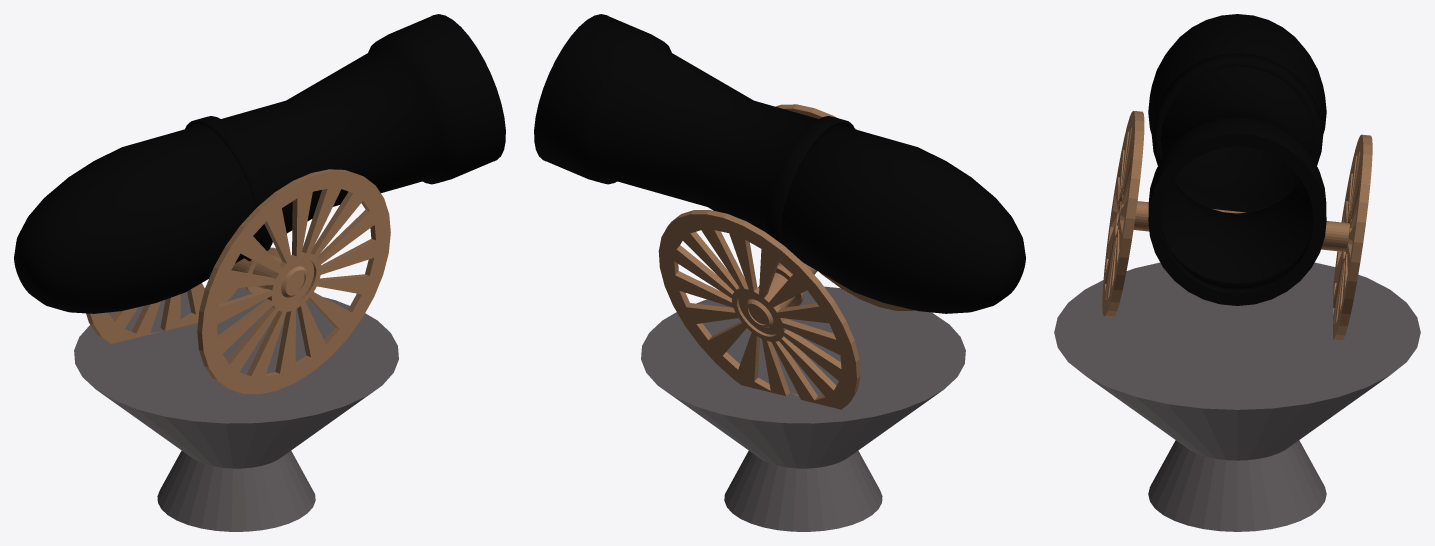
Rendered from cannon.fbx.
3 renders of one model, left to right at view 1: azimuth 30°, elevation 25°; view 2: azimuth 150°, elevation 25°; view 3: azimuth 270°, elevation 25°, orthographic. The views are drawn at different scales.
Visible parts, largest first — view 1: Cañon, Plataforma, Ruedas; view 2: Cañon, Plataforma, Ruedas; view 3: Plataforma, Cañon, Ruedas.
Part boxes in pixels (bbox=[...]): Cañon: bbox=[14, 14, 505, 313]; Plataforma: bbox=[74, 287, 398, 531]; Ruedas: bbox=[86, 169, 390, 394]; Cañon: bbox=[534, 14, 1025, 313]; Plataforma: bbox=[641, 286, 965, 531]; Ruedas: bbox=[658, 104, 913, 409]; Plataforma: bbox=[1054, 262, 1420, 531]; Cañon: bbox=[1148, 14, 1326, 305]; Ruedas: bbox=[1102, 111, 1372, 340].
Size of the model in its own units: 661 by 593 by 411.
